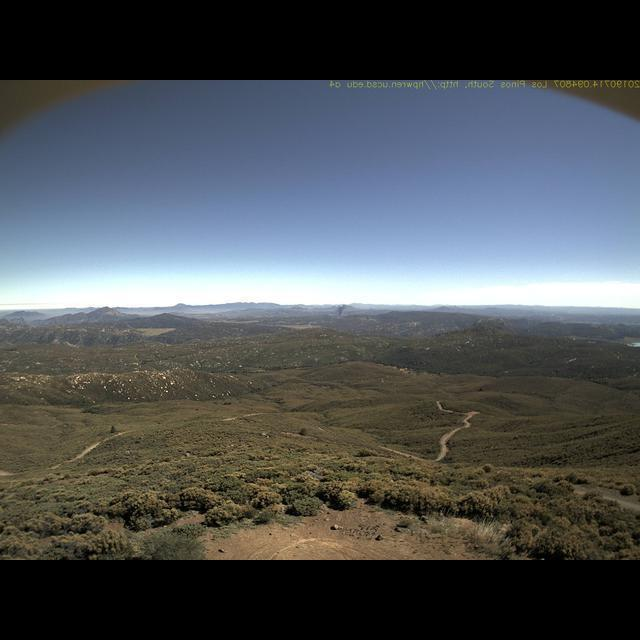Smoke: (331, 298, 353, 320)
